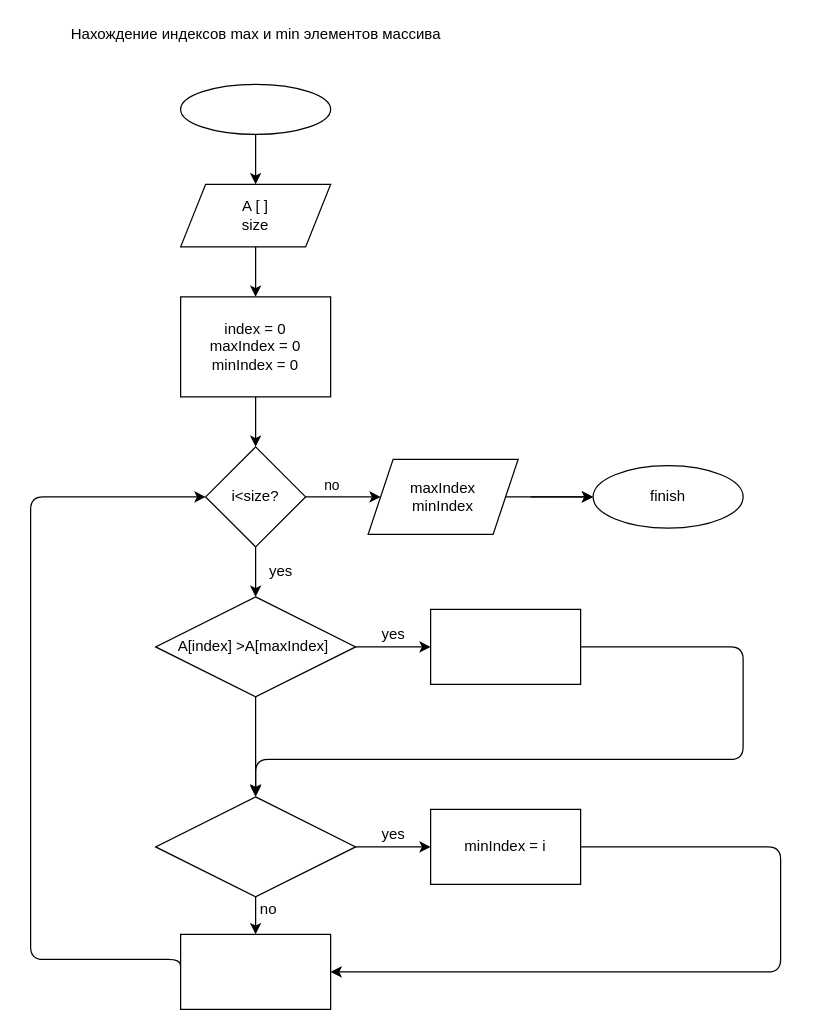
The diagram is 813 pixels wide and 1031 high, and some of its shapes have lost their labels. Each missing label, with the centre of its shape:
"A[index] <A[minIndex]" goes at pixel 255 846.
"i=i+1" goes at pixel 255 971.
"maxIndex = i" goes at pixel 505 646.
"start" goes at pixel 255 108.
